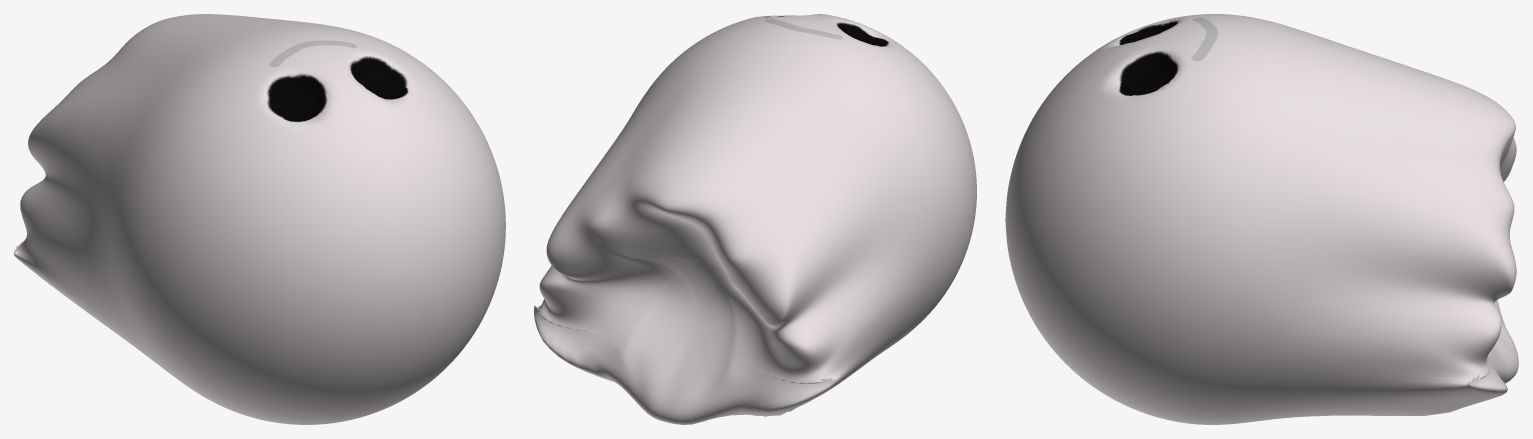
Rendered from Sculpt.obj.
3 renders of one model, left to right at view 1: azimuth 30°, elevation 25°; view 2: azimuth 150°, elevation 25°; view 3: azimuth 270°, elevation 25°, orthographic. The views are drawn at different scales.
Bounding box in the file's own units: 0.9818 × 0.9818 × 1.23.
Materials: 1 (1 with a texture image).
